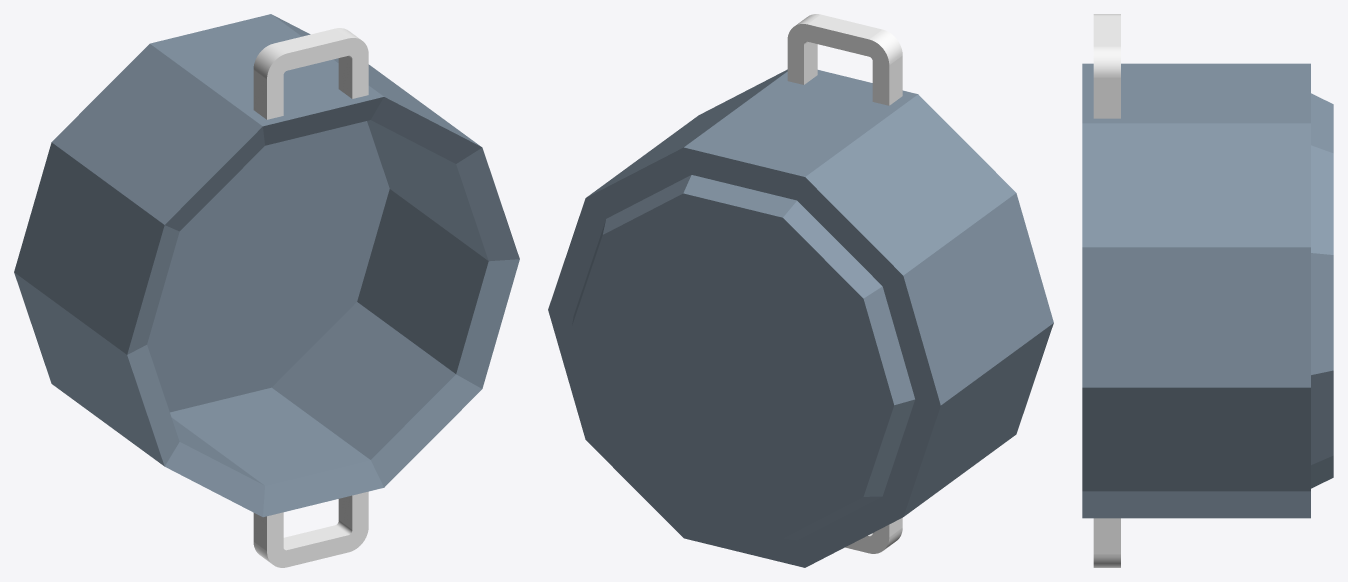
Rendered from cookingPot.obj.
3 views of the same model, side by side, from view 1: azimuth 30°, elevation 25°; view 2: azimuth 150°, elevation 25°; view 3: azimuth 270°, elevation 25° (orthographic).
Parts seen in each view (by area): view 1: pot; view 2: pot; view 3: pot.
Boxes of the visible parts, x1=… form: pot: x1=14, y1=14, x2=519, y2=567; pot: x1=548, y1=14, x2=1053, y2=567; pot: x1=1082, y1=14, x2=1333, y2=567.
Size of the model in its own units: 0.3287 by 0.411 by 0.1804.
